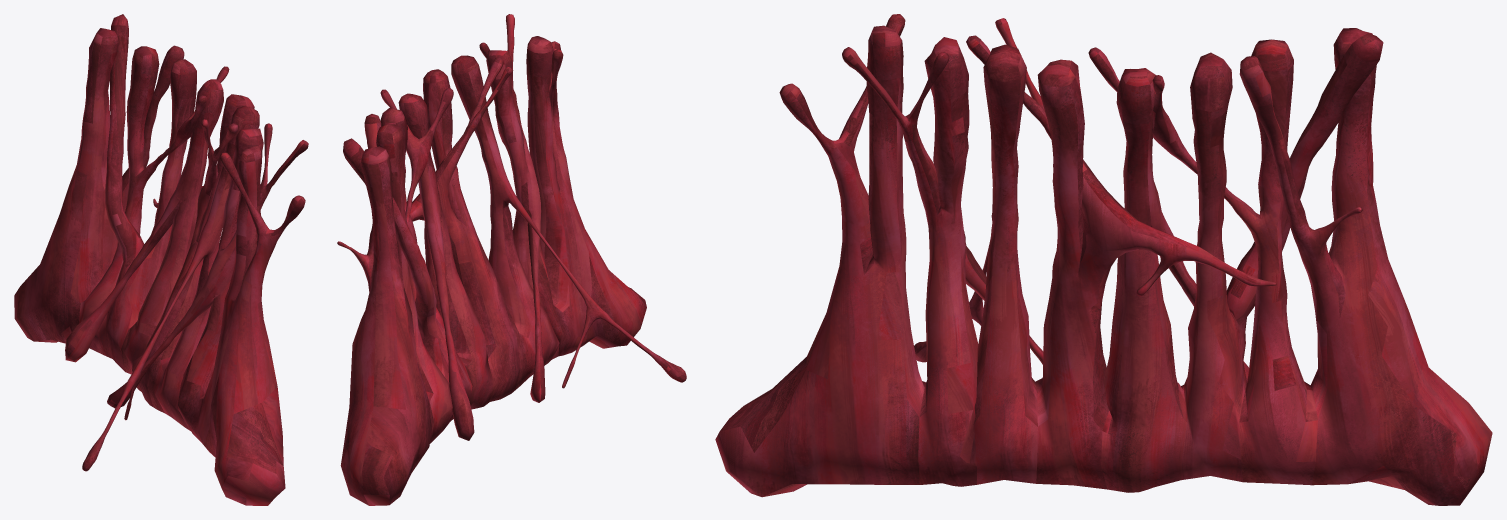
Rendered from vein-4-wall.fbx.
The picture shows the model from 3 angles, left to right: view 1: azimuth 30°, elevation 25°; view 2: azimuth 150°, elevation 25°; view 3: azimuth 270°, elevation 25°; orthographic projection. The views are drawn at different scales.
Visible parts, largest first — view 1: VEIN 4 wall; view 2: VEIN 4 wall; view 3: VEIN 4 wall.
Boxes of the visible parts, left/top/right/bottom form: VEIN 4 wall: left=14, top=14, right=308, bottom=505; VEIN 4 wall: left=337, top=14, right=686, bottom=505; VEIN 4 wall: left=715, top=14, right=1492, bottom=505.
Bounding box in the file's own units: 999 × 1406 × 1967.
